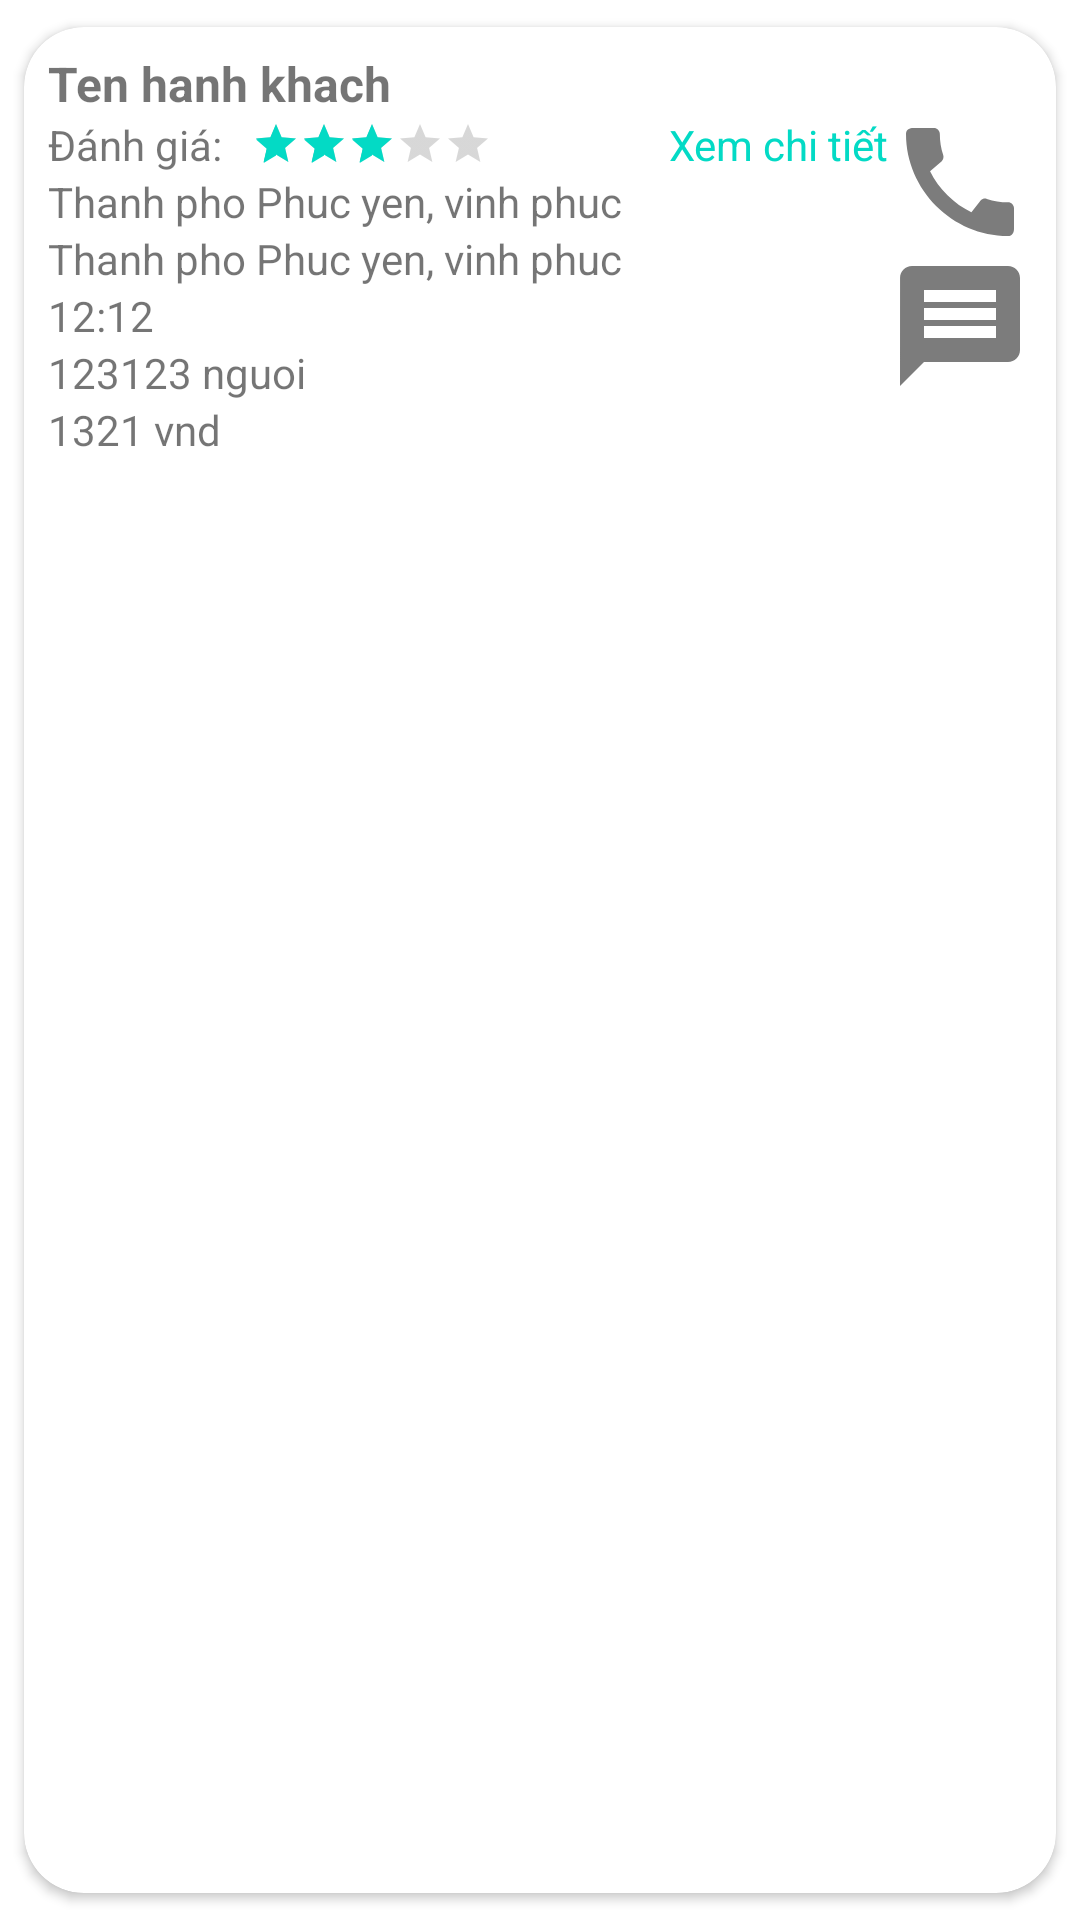

Screen size 1080 x 1920. Icon name, then its box in pixels as (x1, y1, x2, y2):
call: (906, 128, 1014, 236)
message: (900, 266, 1020, 386)
